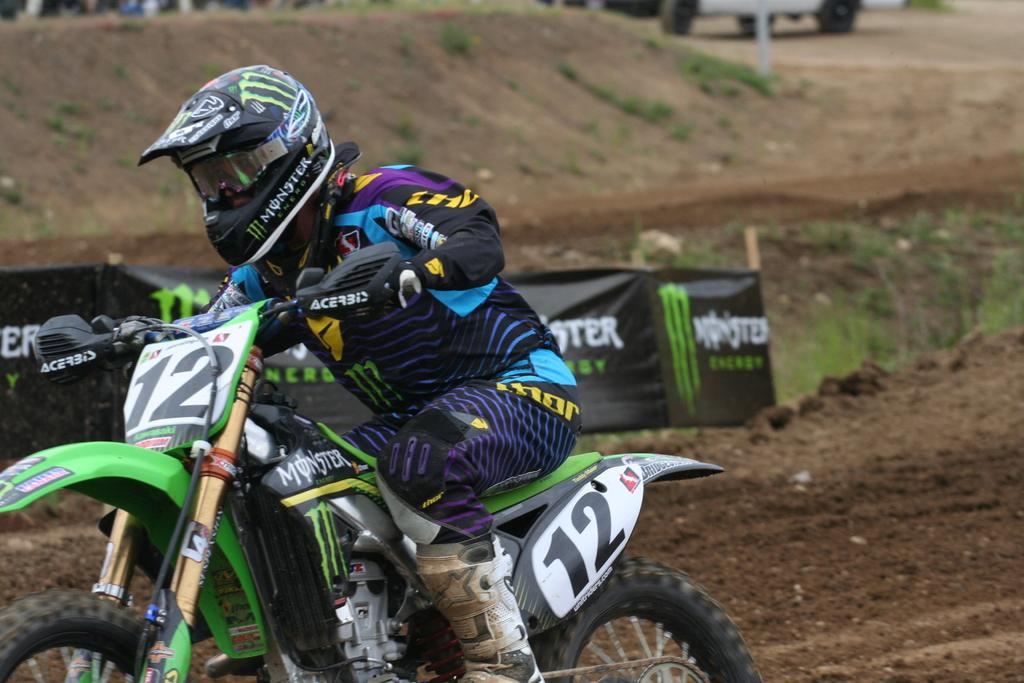Motorcycle: (0, 259, 767, 679)
